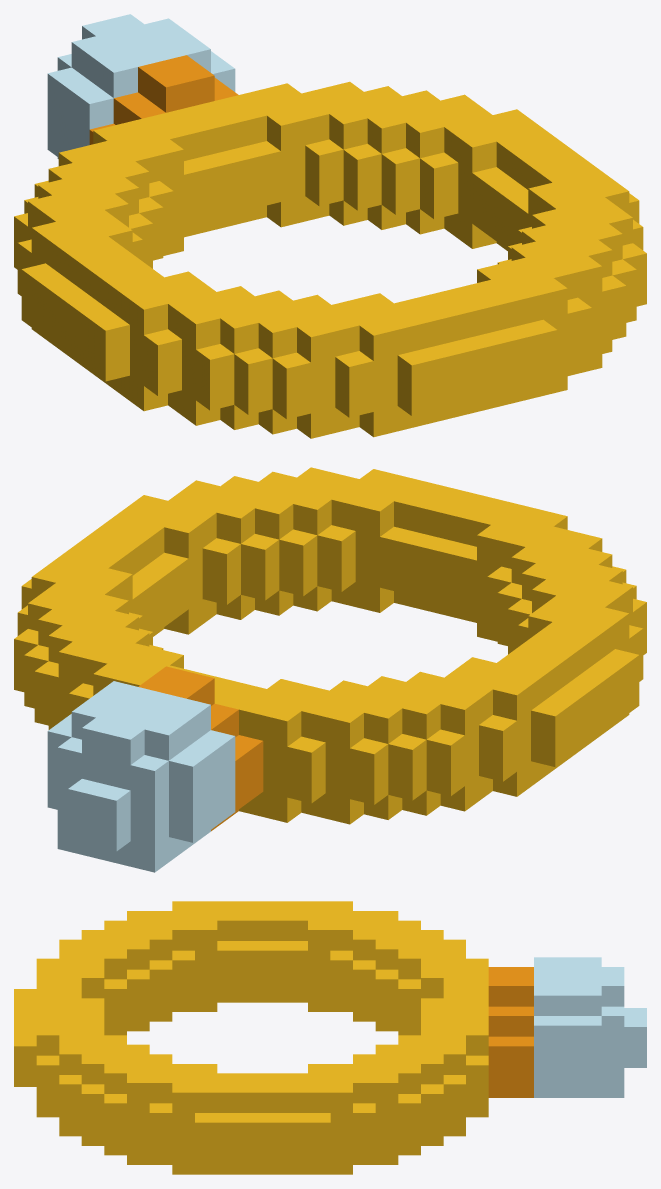
File: item_RING_OPAL.glb
The picture shows the model from 3 angles, top to bottom: view 1: azimuth 30°, elevation 25°; view 2: azimuth 150°, elevation 25°; view 3: azimuth 270°, elevation 25°; orthographic projection. The views are drawn at different scales.
Parts seen in each view (by area): view 1: item_RING_OPAL; view 2: item_RING_OPAL; view 3: item_RING_OPAL.
Part boxes in pixels (left/top/right/bottom): item_RING_OPAL: left=14, top=14, right=646, bottom=438; item_RING_OPAL: left=14, top=467, right=646, bottom=872; item_RING_OPAL: left=14, top=901, right=646, bottom=1174.
Size of the model in its own units: 0.25 by 0.0568 by 0.3182.
1 material, 1 textured.
